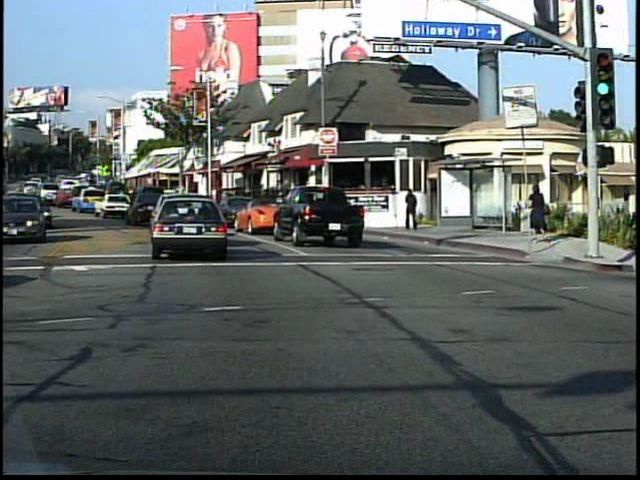person: (531, 182, 555, 247), (404, 186, 423, 235)
